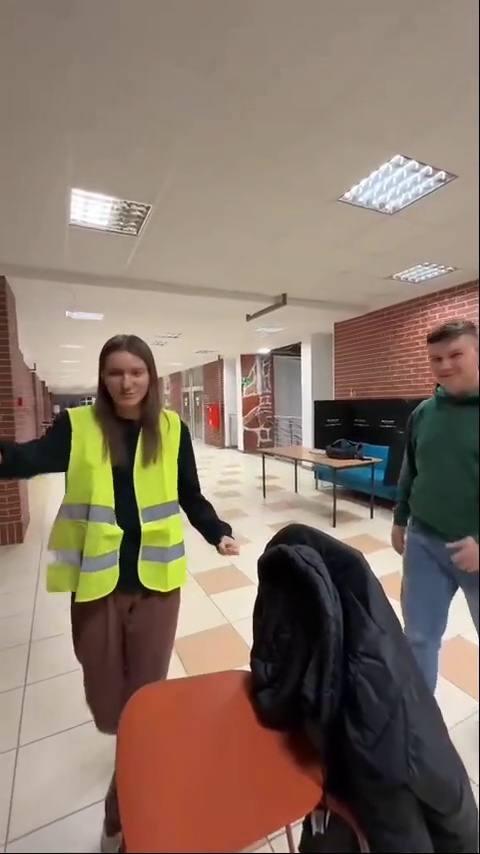no vest: (376, 319, 480, 754)
vest: (49, 333, 229, 725)
